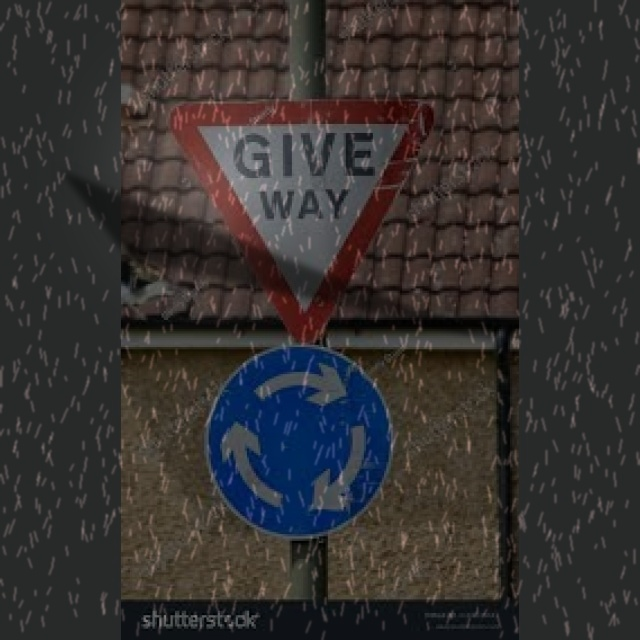Give_Way: (177, 101, 434, 346)
